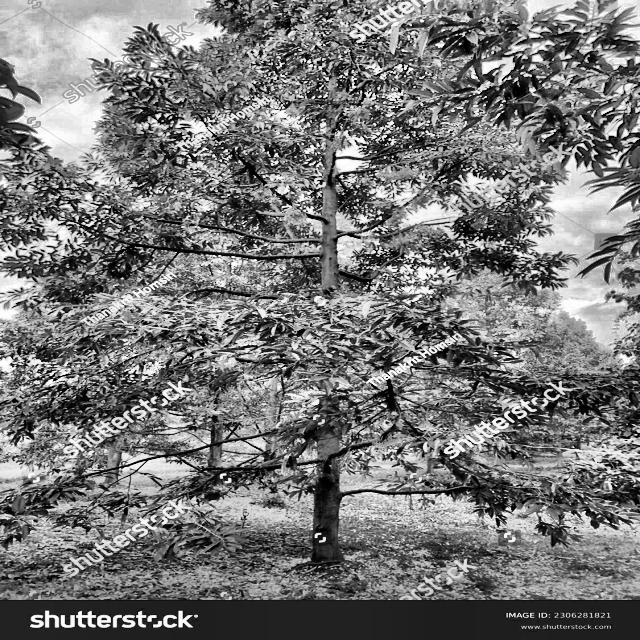arvore: (310, 103, 353, 576)
